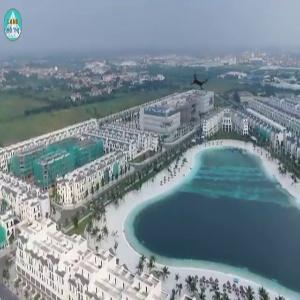drone: (181, 63, 220, 102)
